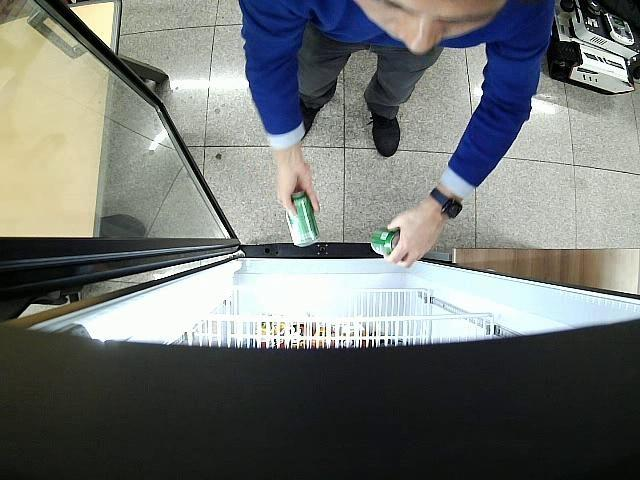12_chilsungCider: (286, 190, 320, 247), (371, 228, 400, 256)
